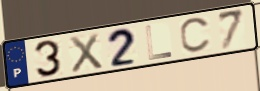2: (106, 25, 142, 71)
3: (33, 38, 64, 79)
7: (218, 7, 245, 52)
C: (178, 15, 212, 55)
L: (144, 24, 174, 62)
X: (68, 31, 105, 75)
